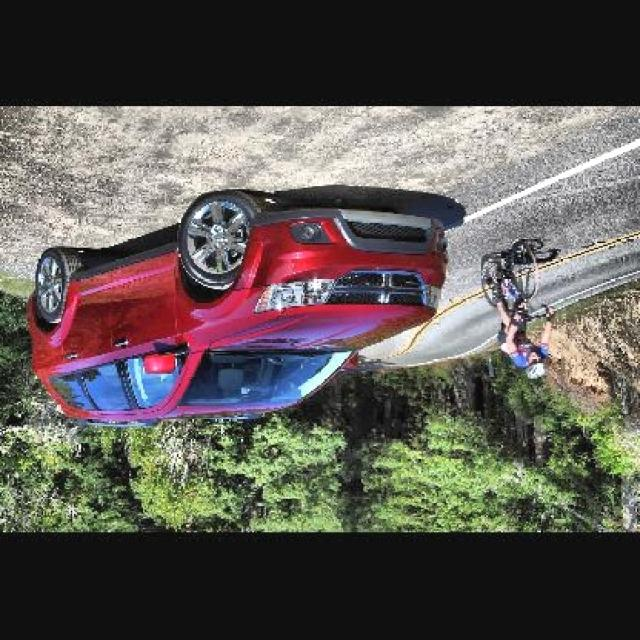maroon: (29, 192, 447, 422)
